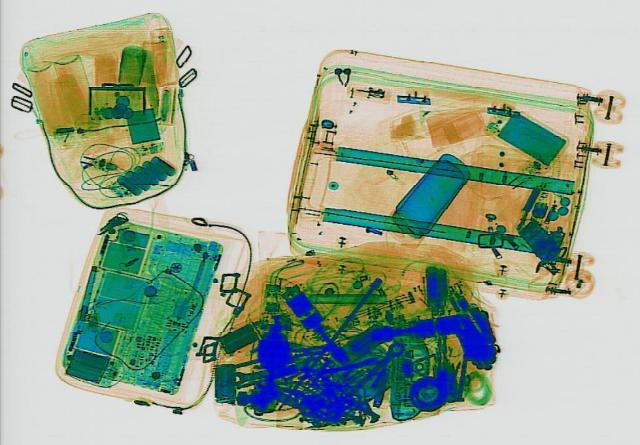Wrench: (222, 353, 318, 386)
